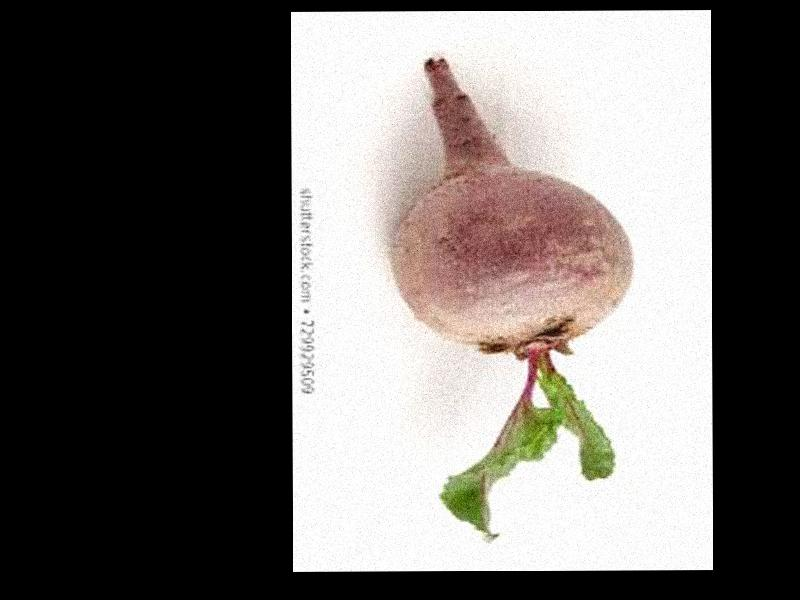Beet: (392, 60, 632, 543)
